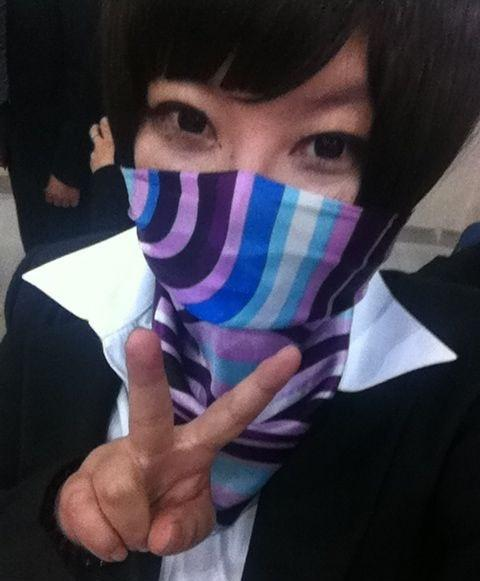OK: (129, 54, 393, 318)
